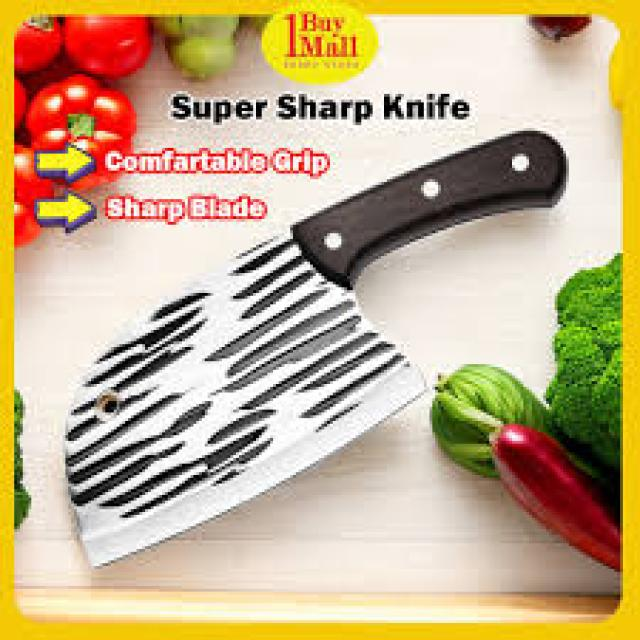Knife: (65, 131, 566, 563)
